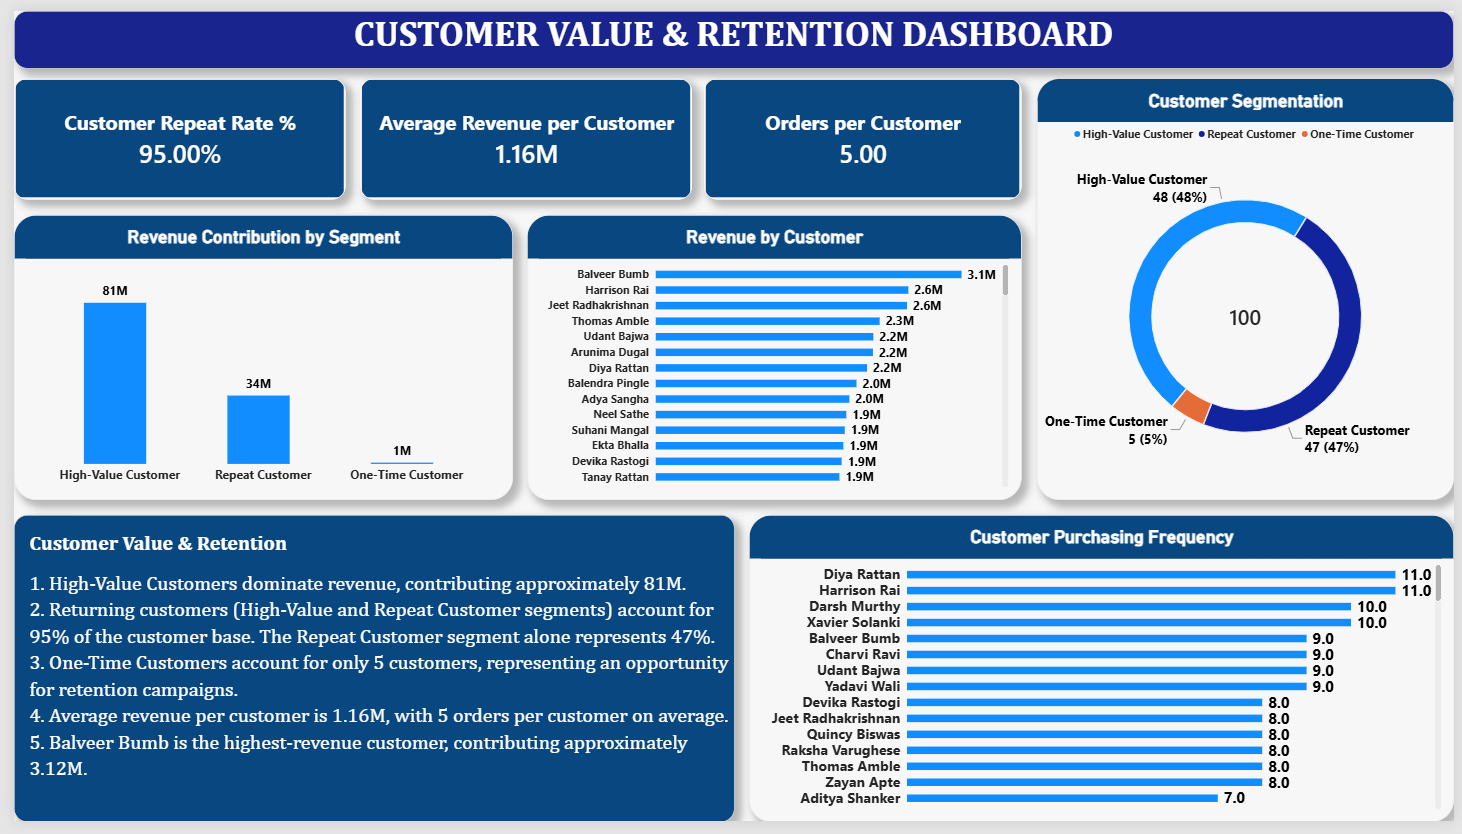

This screenshot's page, from the dashboard's own definition file:
{"tool":"powerbi","page":{"name":"Customer Value & Retention Dashboard","canvas":[1920,1080],"ordinal":4},"visuals":[{"type":"cardVisual","fields":{"Data":["customers.Customer Repeat Rate %"]},"box":[0,90.9,442.2,161.2],"z":0},{"type":"cardVisual","fields":{"Data":["customers.Average Revenue per Customer"]},"box":[462.9,90.9,442.2,161.2],"z":1000},{"type":"cardVisual","fields":{"Data":["Calendar.Orders per Customer"]},"box":[919.5,90.9,423.6,161.2],"z":2000},{"type":"donutChart","title":"Customer Segmentation","fields":{"Category":["customers.Customer Type"],"Y":["customers.Total Customers"]},"box":[1363.8,90.9,555.9,562.1],"z":3000},{"type":"clusteredBarChart","title":"Revenue by Customer","fields":{"Category":["customers.customer_name"],"Y":["order_items.Total Revenue"]},"box":[684,272.8,659.2,380.2],"z":4000},{"type":"clusteredBarChart","title":"Customer Purchasing Frequency","fields":{"Category":["customers.customer_name"],"Y":["Calendar.Orders per Customer"]},"box":[979.5,671.6,940.2,409.1],"z":5000},{"type":"clusteredColumnChart","title":"Revenue Contribution by Segment","fields":{"Category":["customers.Customer Type"],"Y":["order_items.Total Revenue"]},"box":[0,272.8,665.4,380.2],"z":6000},{"type":"textbox","box":[0,0,1919.7,76.5],"z":7000},{"type":"textbox","box":[0,671.6,960.9,409.1],"z":8000}]}

Visuals, with their boxes in screenshot pixels (x1, y1, x2, y2), scaled from the page's 1920x1080 canvas onto the 1462x834 screenshot:
cardVisual - customers.Customer Repeat Rate %: BBox(0, 70, 337, 195)
cardVisual - customers.Average Revenue per Customer: BBox(352, 70, 689, 195)
cardVisual - Calendar.Orders per Customer: BBox(700, 70, 1023, 195)
"Customer Segmentation" donutChart: BBox(1038, 70, 1461, 504)
"Revenue by Customer" clusteredBarChart: BBox(521, 211, 1023, 504)
"Customer Purchasing Frequency" clusteredBarChart: BBox(746, 519, 1461, 833)
"Revenue Contribution by Segment" clusteredColumnChart: BBox(0, 211, 507, 504)
textbox: BBox(0, 0, 1461, 59)
textbox: BBox(0, 519, 732, 833)
